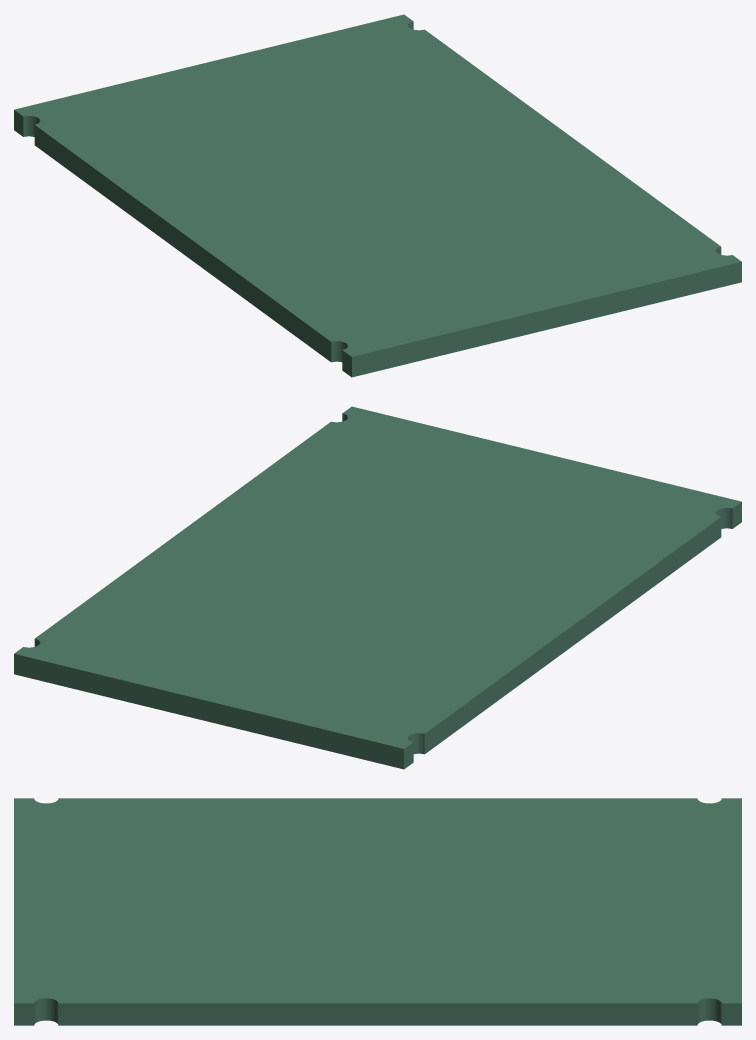
Rendered from board.glb.
The picture shows the model from 3 angles, top to bottom: view 1: azimuth 30°, elevation 25°; view 2: azimuth 150°, elevation 25°; view 3: azimuth 270°, elevation 25°; orthographic projection. The views are drawn at different scales.
Parts seen in each view (by area): view 1: =>[0:1:1:2]; view 2: =>[0:1:1:2]; view 3: =>[0:1:1:2].
Boxes of the visible parts, x1,y1,x2,y2 form: =>[0:1:1:2]: (14, 14, 741, 377); =>[0:1:1:2]: (14, 406, 741, 769); =>[0:1:1:2]: (14, 798, 741, 1025).
Size of the model in its own units: 0.03 by 0.00151 by 0.045.
